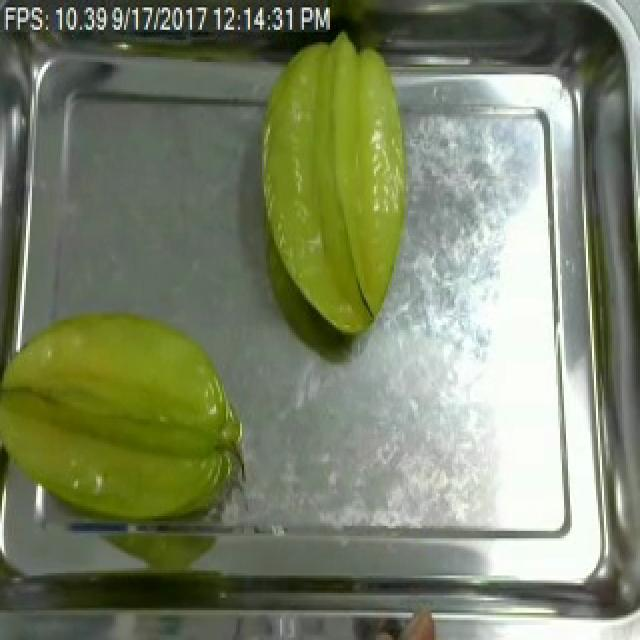fruit: (0, 298, 256, 540), (242, 27, 418, 350)
